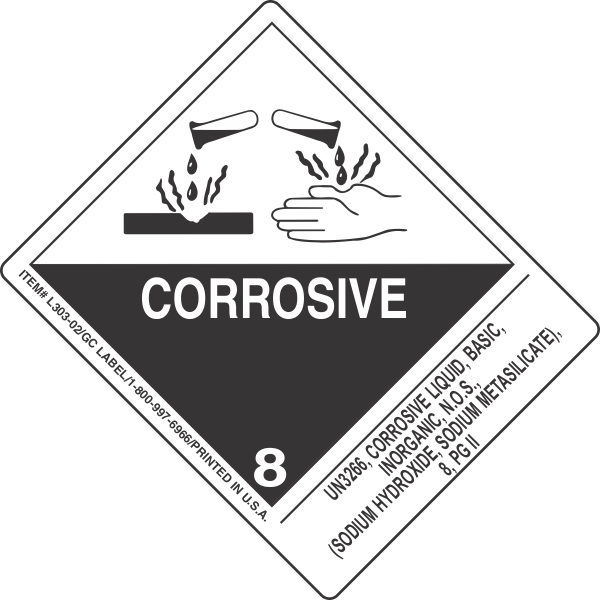Corrosive: (1, 8, 550, 501)
